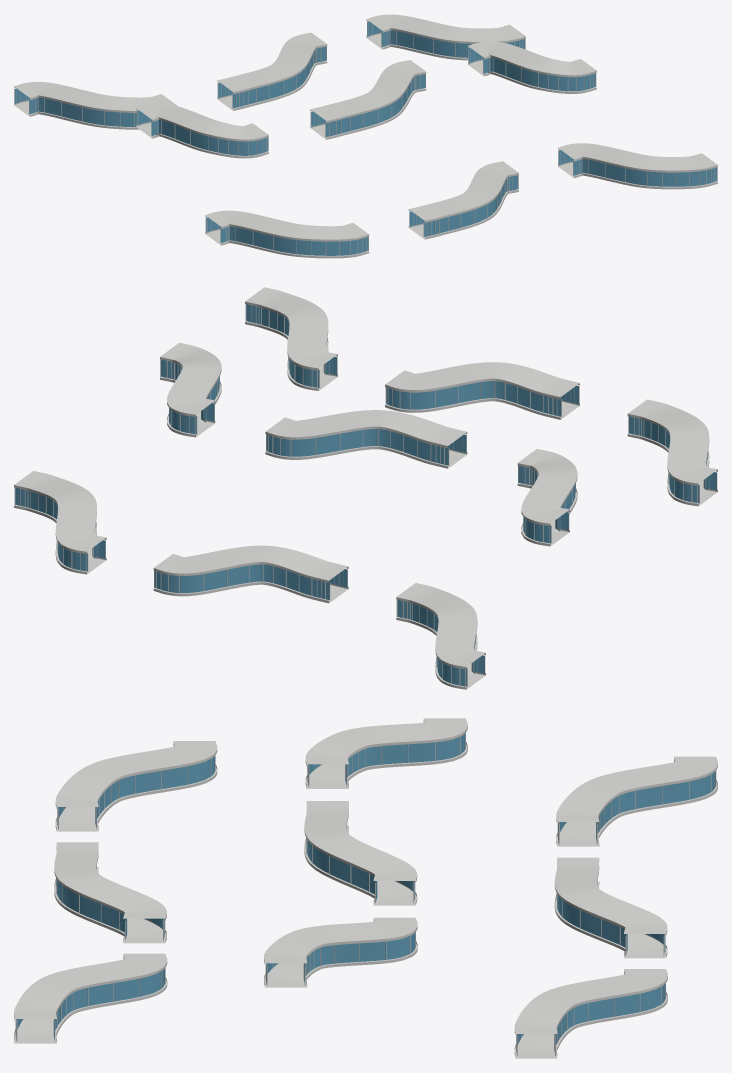
The model's file is bridges.glb.
3 renders of one model, top to bottom at view 1: azimuth 30°, elevation 25°; view 2: azimuth 150°, elevation 25°; view 3: azimuth 270°, elevation 25°, orthographic. The views are drawn at different scales.
Bounding box in the file's own units: 15.78 × 2.18 × 16.88.
